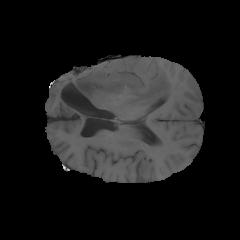glioma: (56, 65, 171, 118)
